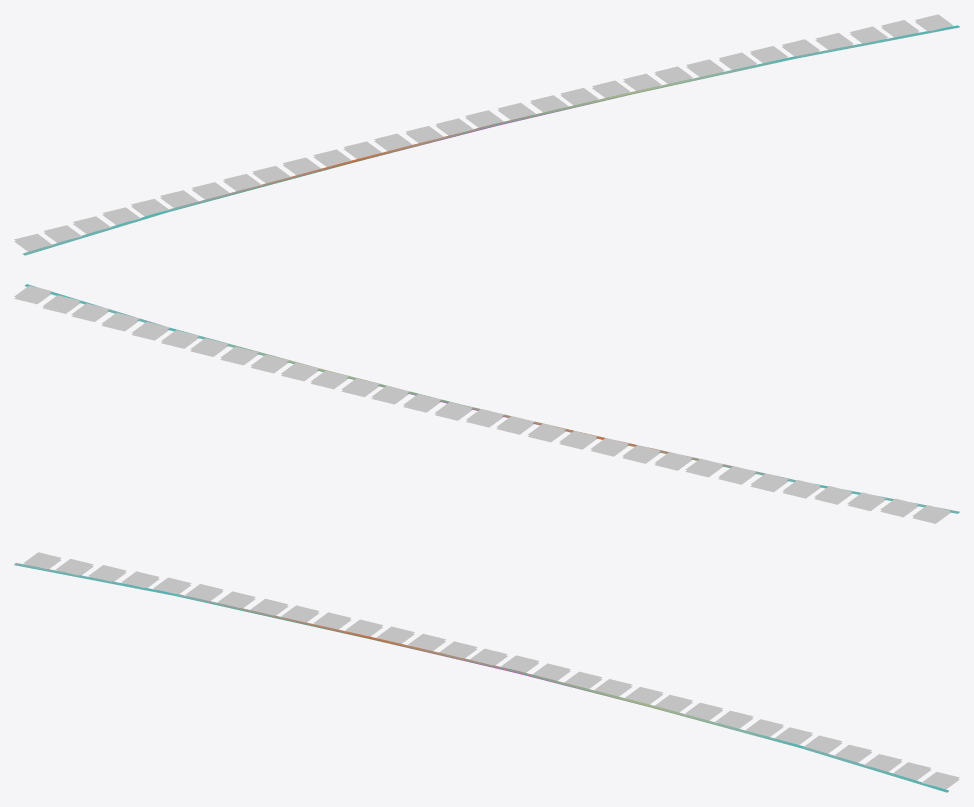
File: Flag_PrayerHorizontal.glb
3 renders of one model, top to bottom at view 1: azimuth 30°, elevation 25°; view 2: azimuth 150°, elevation 25°; view 3: azimuth 330°, elevation 25°, orthographic.
Visible parts, largest first — view 1: MeshNode_1, MeshNode_0; view 2: MeshNode_1, MeshNode_0; view 3: MeshNode_1, MeshNode_0.
Boxes of the visible parts, x1,y1,x2,y2 form: MeshNode_1: (14, 14, 953, 251); MeshNode_0: (23, 25, 959, 255); MeshNode_1: (14, 285, 950, 523); MeshNode_0: (25, 284, 959, 513); MeshNode_1: (23, 552, 959, 789); MeshNode_0: (14, 563, 948, 792).
Size of the model in its own units: 64.26 by 0.1302 by 3.75.
